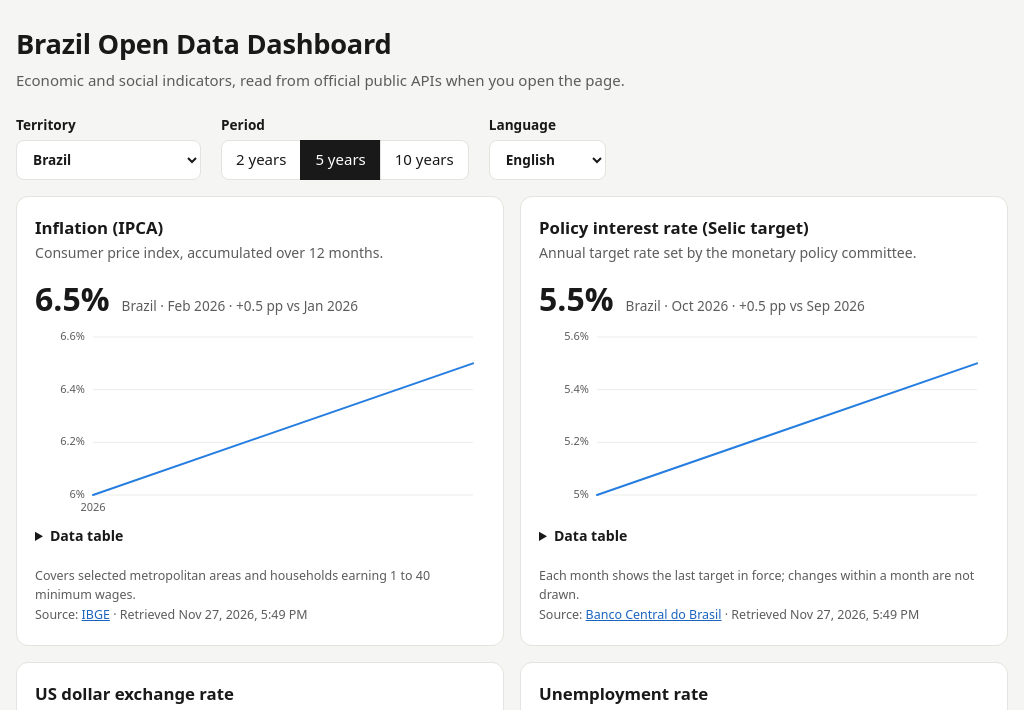
Test: App › compares a state with Brazil and marks national-only indicators
Select "Minas Gerais" in the dropdown labelled "Territory": (108, 160) 16,140 -> 201,180
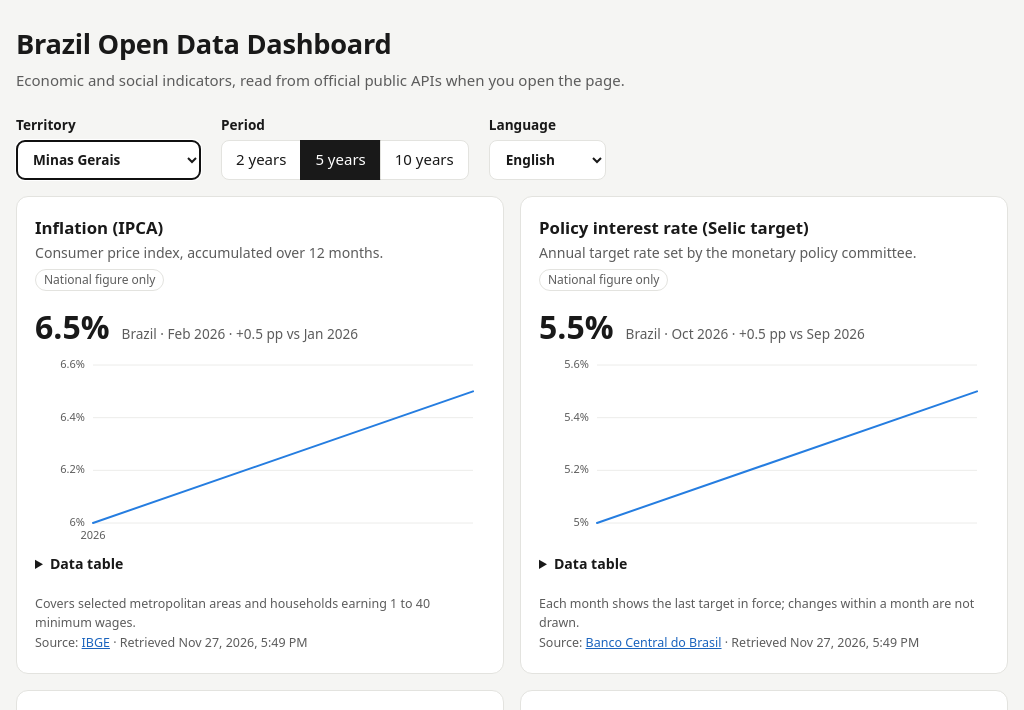
Expected: the element "Inflation (IPCA)" shows "National figure only", 44,271 -> 155,288
